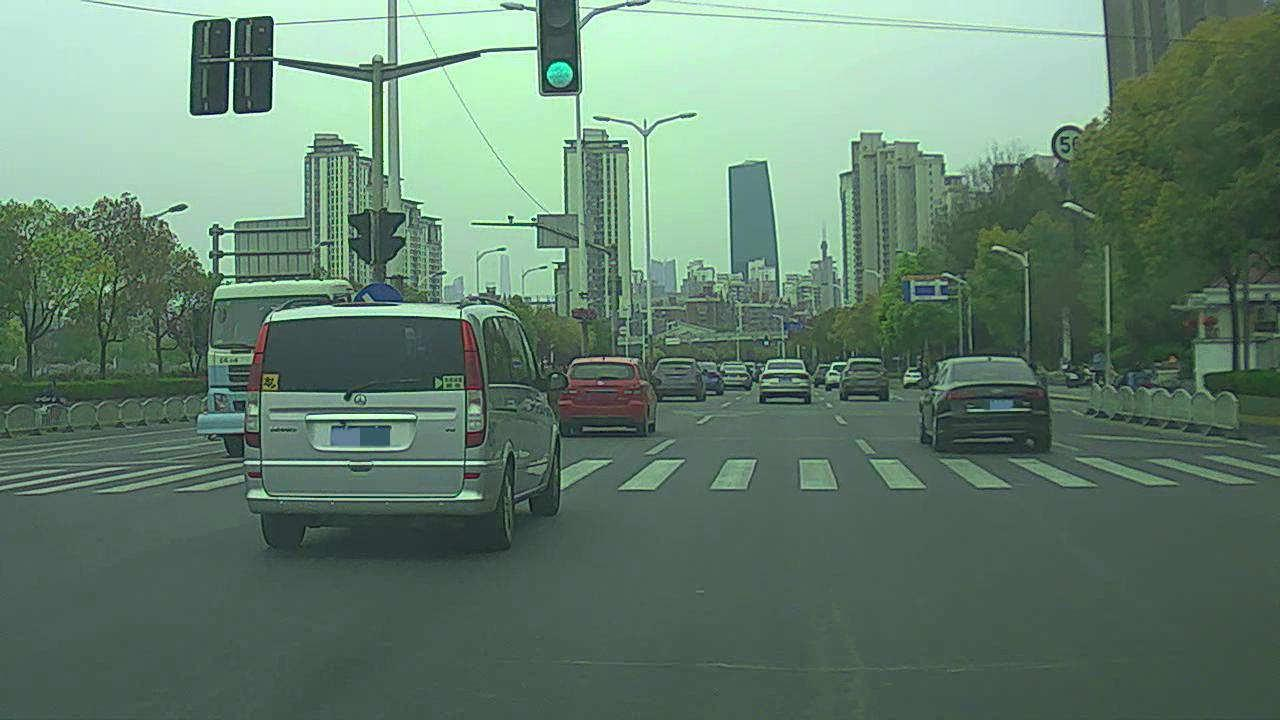traffic_light: (536, 2, 581, 96)
